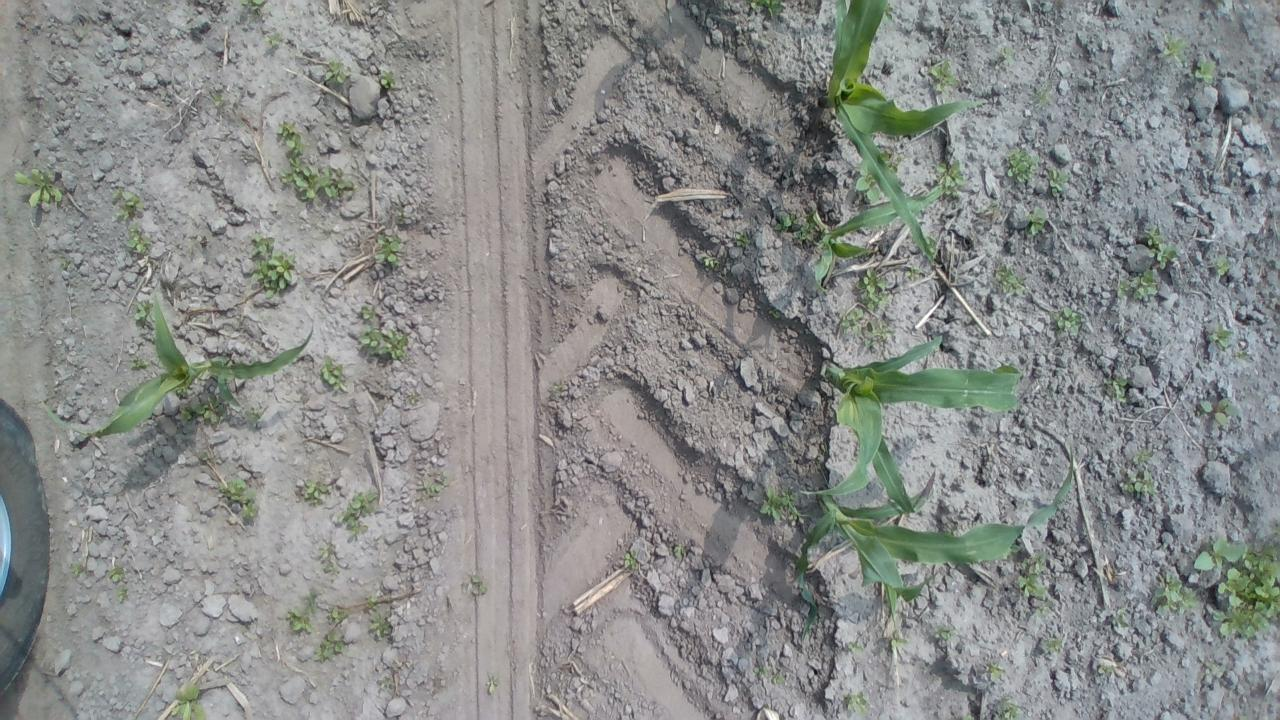Maize: (796, 444, 1072, 636), (818, 0, 986, 273), (41, 280, 318, 442), (803, 336, 1019, 516), (810, 184, 946, 296)
Weeds: (1192, 520, 1280, 642), (278, 157, 360, 202), (250, 230, 296, 300), (330, 487, 380, 537), (15, 166, 66, 210), (1116, 449, 1160, 499), (1152, 570, 1196, 618), (756, 484, 804, 526), (216, 476, 259, 522), (359, 322, 408, 362), (1016, 549, 1048, 602), (853, 269, 891, 311), (1145, 223, 1177, 272), (286, 592, 318, 636), (170, 682, 207, 720), (276, 119, 312, 158), (1116, 268, 1158, 301), (366, 593, 394, 641), (192, 391, 230, 426), (1196, 395, 1236, 428), (930, 57, 962, 94), (854, 161, 881, 204), (936, 161, 968, 197), (110, 188, 144, 221), (1006, 149, 1040, 182), (319, 356, 349, 393), (312, 631, 346, 663), (996, 265, 1028, 299), (1160, 30, 1190, 66), (861, 322, 897, 352), (1049, 308, 1083, 338), (376, 230, 404, 266), (791, 209, 818, 243), (300, 476, 330, 506), (126, 222, 153, 254), (837, 307, 865, 334), (324, 58, 352, 84), (1206, 322, 1234, 348), (1192, 58, 1220, 84), (318, 542, 338, 576), (998, 695, 1024, 720), (422, 474, 450, 497), (1106, 374, 1127, 404), (880, 148, 904, 174), (748, 0, 788, 15), (846, 691, 871, 714), (1048, 166, 1070, 192), (378, 63, 398, 89), (773, 212, 799, 232), (239, 0, 271, 16), (132, 299, 154, 322), (1110, 605, 1130, 630), (1032, 81, 1053, 104), (1030, 206, 1046, 236), (103, 564, 129, 581), (468, 574, 488, 596), (174, 404, 194, 426), (890, 630, 914, 648), (484, 670, 502, 694), (1214, 255, 1234, 276), (933, 623, 957, 640), (1042, 638, 1066, 654), (734, 230, 754, 249), (830, 0, 846, 23), (244, 407, 263, 426), (986, 660, 1004, 680), (621, 552, 641, 570), (976, 199, 1000, 214), (324, 608, 344, 625), (922, 233, 936, 257), (1031, 604, 1049, 622), (1000, 46, 1016, 65), (358, 304, 376, 320), (264, 30, 282, 46), (1096, 662, 1116, 676), (127, 357, 150, 369), (750, 665, 770, 678), (772, 672, 788, 688), (905, 264, 921, 280), (673, 544, 688, 560), (701, 253, 717, 268), (1203, 660, 1218, 674), (68, 562, 82, 577), (881, 11, 895, 26), (212, 93, 226, 107), (848, 642, 864, 654), (175, 386, 192, 397), (118, 585, 128, 603), (406, 394, 418, 406), (1235, 350, 1246, 362), (768, 310, 782, 318), (1234, 714, 1248, 720), (961, 716, 975, 720), (552, 386, 560, 392)
